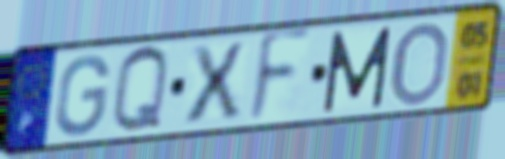F: (245, 24, 313, 131)
G: (52, 52, 113, 140)
M: (320, 23, 394, 116)
O: (387, 19, 452, 109)
Q: (109, 43, 172, 138)
X: (183, 39, 247, 128)
